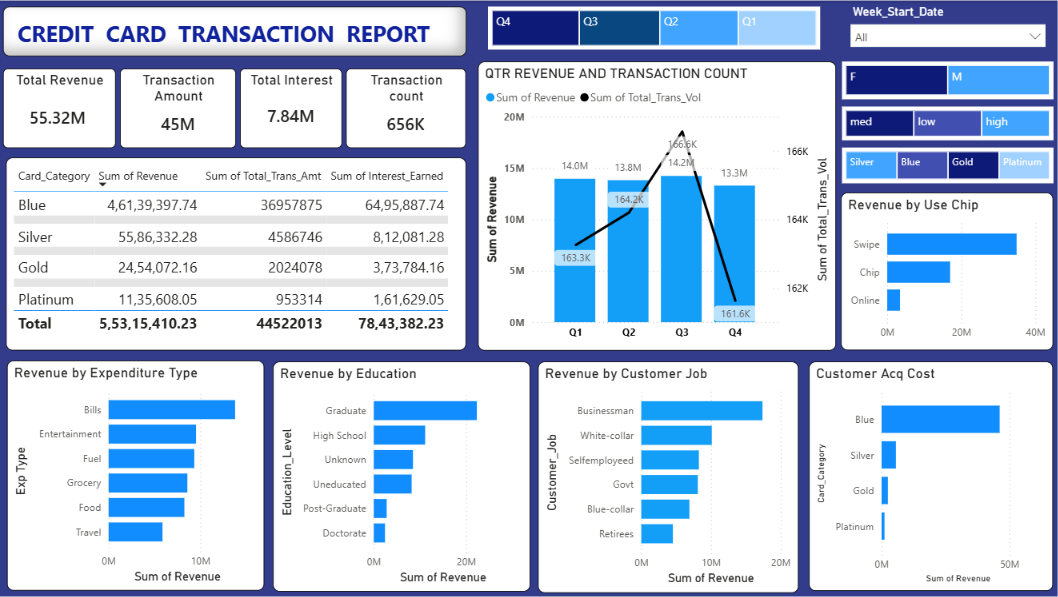

The dashboard page shown, as its layout file describes it:
{"tool":"powerbi","page":{"name":"credit card","canvas":[1280,720],"ordinal":0},"visuals":[{"type":"textbox","box":[3.3,6.7,558.8,60.1],"z":0},{"type":"lineStackedColumnComboChart","title":"QTR REVENUE AND TRANSACTION COUNT","fields":{"Category":["credit_card.Qtr"],"Y":["Sum(credit_card.TotalRevenue)"],"Y2":["Sum(credit_card.Total_Trans_Vol)"]},"box":[577,73.5,432,348.4],"z":1000},{"type":"barChart","title":"Revenue by Expenditure Type","fields":{"Y":["Sum(credit_card.TotalRevenue)"],"Category":["credit_card.Exp Type"]},"box":[9,434.4,310,277.8],"z":2000},{"type":"barChart","title":"Revenue by Education","fields":{"Y":["Sum(credit_card.TotalRevenue)"],"Category":["customer.Education_Level"]},"box":[328.9,435.6,310,277.8],"z":3000},{"type":"barChart","title":"Revenue by Customer Job","fields":{"Y":["Sum(credit_card.TotalRevenue)"],"Category":["customer.Customer_Job"]},"box":[648.9,435.6,314,278.9],"z":4000},{"type":"barChart","title":"Customer Acq Cost","fields":{"Y":["Sum(credit_card.TotalRevenue)"],"Category":["credit_card.Card_Category"]},"box":[975.6,435.6,294,276.7],"z":5000},{"type":"tableEx","title":"lRevenue by Exp Type","fields":{"Values":["credit_card.Card_Category","Sum(credit_card.TotalRevenue)","Sum(credit_card.Total_Trans_Amt)","Sum(credit_card.Interest_Earned)"]},"box":[6.7,189.2,555.5,232.7],"z":6000},{"type":"barChart","title":"Revenue by Use Chip","fields":{"Y":["Sum(credit_card.TotalRevenue)"],"Category":["credit_card.Use Chip"]},"box":[1015.1,231.4,255.8,190.7],"z":7000},{"type":"cardVisual","title":"Total Revenue","fields":{"Data":["Sum(credit_card.TotalRevenue)"]},"box":[3.3,82.4,135.8,95.7],"z":8000},{"type":"cardVisual","title":"Transaction Amount","fields":{"Data":["Sum(credit_card.Total_Trans_Amt)"]},"box":[144.7,82.4,140.3,95.7],"z":9000},{"type":"cardVisual","title":"Total Interest","fields":{"Data":["Sum(credit_card.Interest_Earned)"]},"box":[289,82.4,123.6,95.7],"z":10000},{"type":"cardVisual","title":"Transaction count","fields":{"Data":["Sum(credit_card.Total_Trans_Vol)"]},"box":[417.4,82.4,144.7,95.7],"z":11000},{"type":"slicer","fields":{"Values":["credit_card.Week_Start_Date"]},"box":[1015.6,0,255.6,66.7],"z":12000},{"type":"treemap","fields":{"Group":["credit_card.Qtr"],"Values":["Avg(customer.Client_Num)"]},"box":[588.4,7,401.2,52.3],"z":13000},{"type":"treemap","fields":{"Values":["Avg(customer.Client_Num)"],"Group":["customer.Gender"]},"box":[1015.6,73.3,255.6,45.6],"z":14000},{"type":"treemap","fields":{"Values":["Avg(customer.Client_Num)"],"Group":["customer.IncomeGroup"]},"box":[1015.6,127.8,255.6,41.1],"z":15000},{"type":"treemap","fields":{"Values":["Avg(customer.Client_Num)"],"Group":["credit_card.Card_Category"]},"box":[1015.6,177.8,255.6,43.3],"z":16000}]}

Visuals, with their boxes in screenshot pixels (x1, y1, x2, y2), scaled from the page's 1280x720 canvas onto the 1058x597 screenshot:
textbox: (left=3, top=6, right=465, bottom=55)
"QTR REVENUE AND TRANSACTION COUNT" lineStackedColumnComboChart: (left=477, top=61, right=834, bottom=350)
"Revenue by Expenditure Type" barChart: (left=7, top=360, right=264, bottom=591)
"Revenue by Education" barChart: (left=272, top=361, right=528, bottom=592)
"Revenue by Customer Job" barChart: (left=536, top=361, right=796, bottom=592)
"Customer Acq Cost" barChart: (left=806, top=361, right=1049, bottom=591)
"lRevenue by Exp Type" tableEx: (left=6, top=157, right=465, bottom=350)
"Revenue by Use Chip" barChart: (left=839, top=192, right=1050, bottom=350)
"Total Revenue" cardVisual: (left=3, top=68, right=115, bottom=148)
"Transaction Amount" cardVisual: (left=120, top=68, right=236, bottom=148)
"Total Interest" cardVisual: (left=239, top=68, right=341, bottom=148)
"Transaction count" cardVisual: (left=345, top=68, right=465, bottom=148)
slicer - credit_card.Week_Start_Date: (left=839, top=0, right=1051, bottom=55)
treemap - credit_card.Qtr x Avg(customer.Client_Num): (left=486, top=6, right=818, bottom=49)
treemap - Avg(customer.Client_Num) x customer.Gender: (left=839, top=61, right=1051, bottom=99)
treemap - Avg(customer.Client_Num) x customer.IncomeGroup: (left=839, top=106, right=1051, bottom=140)
treemap - Avg(customer.Client_Num) x credit_card.Card_Category: (left=839, top=147, right=1051, bottom=183)
